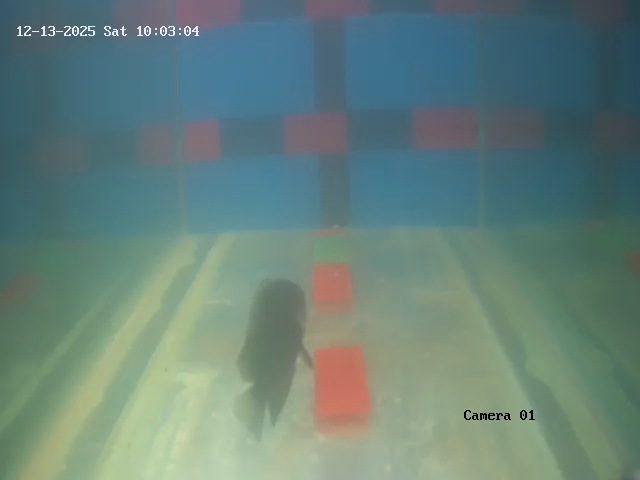fish: (235, 280, 310, 406)
